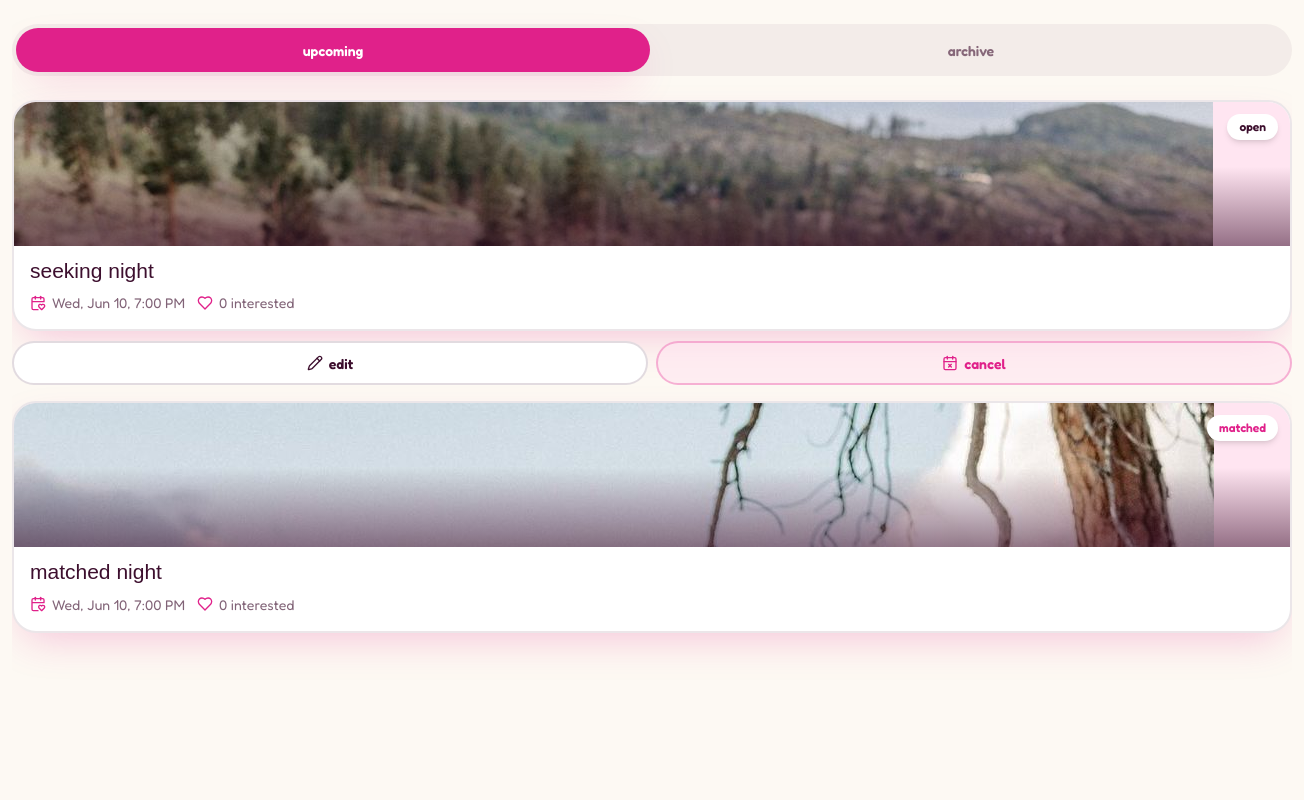
Test: NightsSegments — upcoming/archive toggle › shows the funny empty state when the archive bucket is empty
The width and height of the screenshot is (1304, 800).
Click the tab "archive" at (971,50), box 654,28 -> 1288,72
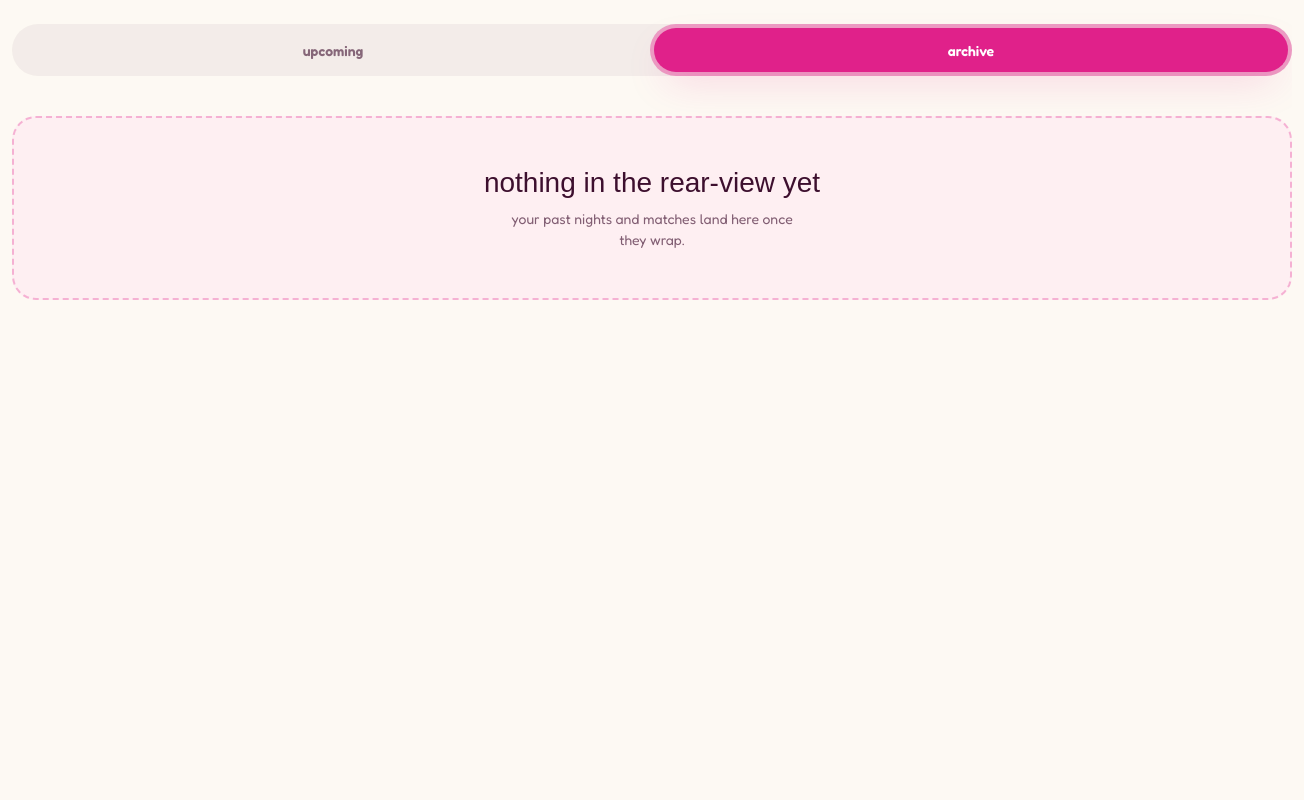
Expected: the text "nothing in the rear-view yet" is shown, 484,167 -> 820,198
Expected: the text "your past nights and matches land here once they wrap." is shown, 508,208 -> 796,250
